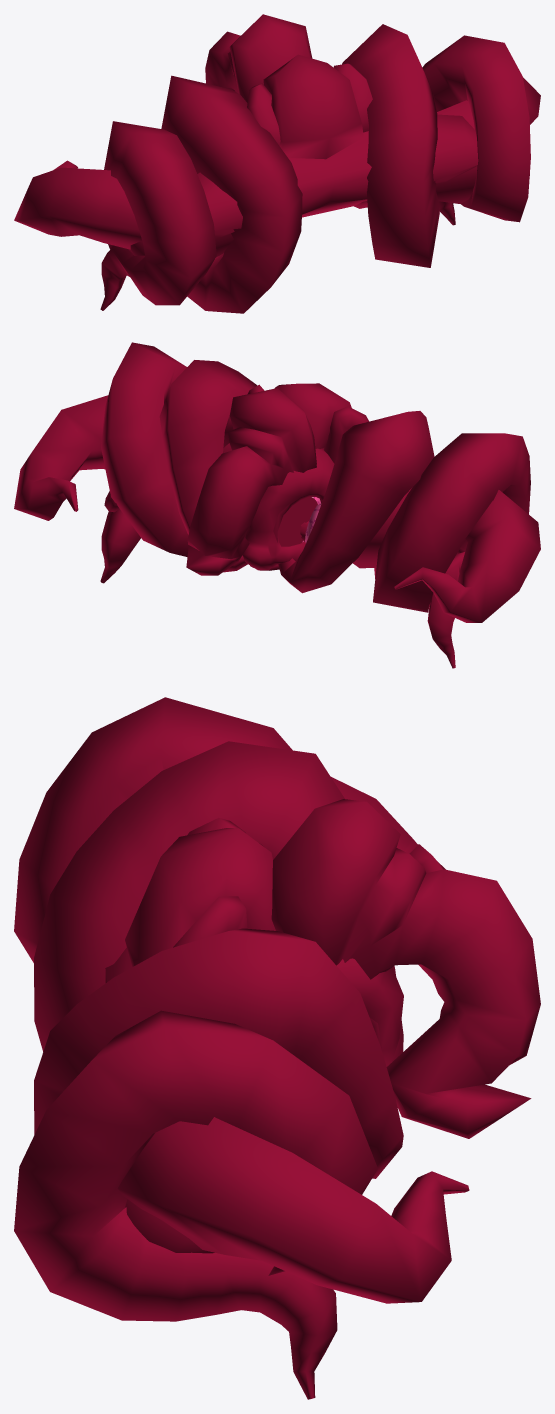
The model's file is skull4.obj.
The picture shows the model from 3 angles, top to bottom: view 1: azimuth 30°, elevation 25°; view 2: azimuth 150°, elevation 25°; view 3: azimuth 270°, elevation 25°; orthographic projection. The views are drawn at different scales.
Visible parts, largest first — view 1: Circle; view 2: Circle; view 3: Circle.
Part boxes in pixels (left/top/right/bottom): Circle: left=14, top=14, right=540, bottom=313; Circle: left=14, top=342, right=540, bottom=668; Circle: left=14, top=697, right=540, bottom=1399.
Bounding box in the file's own units: 5.31 × 2.47 × 2.67.
